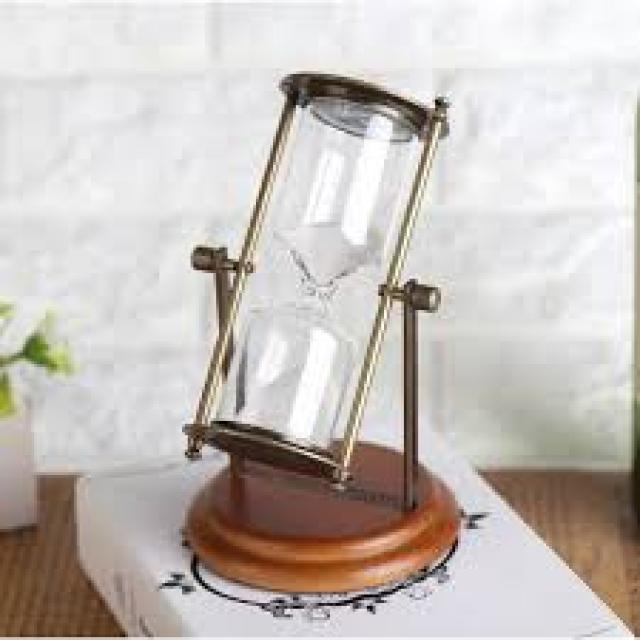clock: (190, 52, 493, 488)
